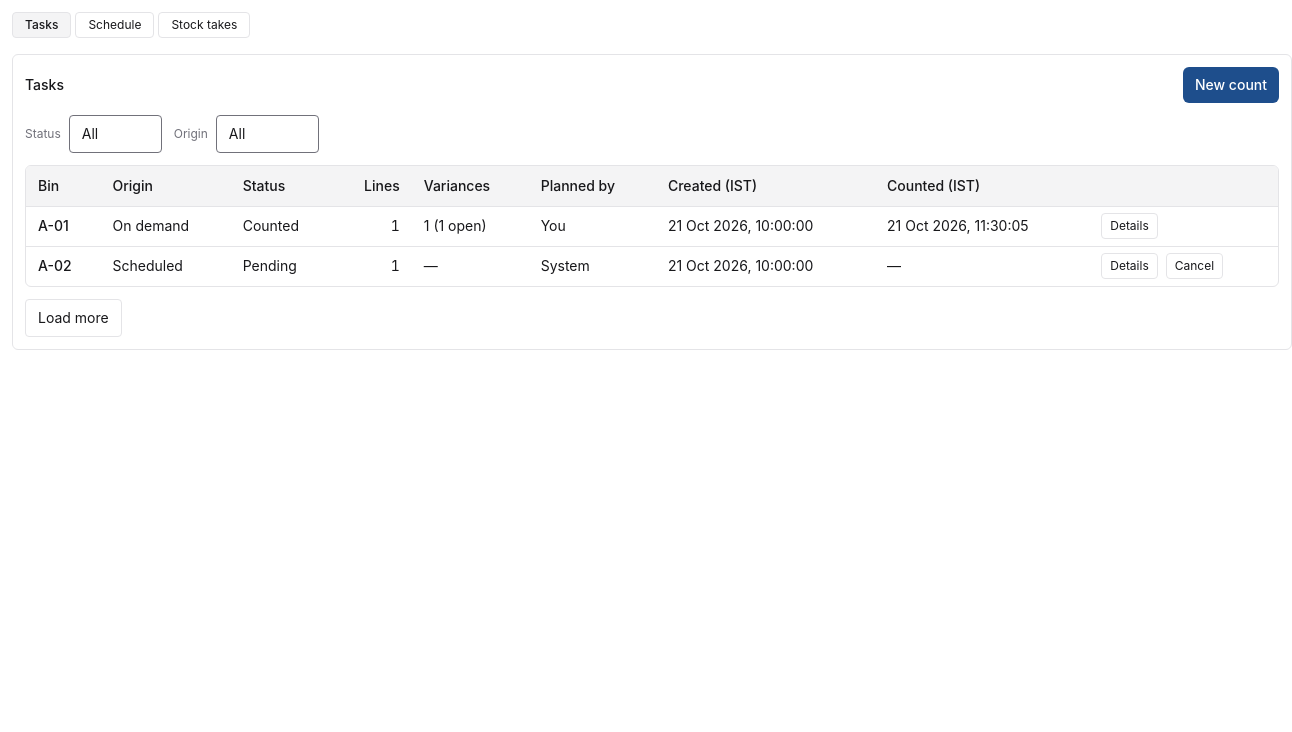
Test: the Tasks tab › expanding a row reads the detail: expected beside counted, the variance, the queue link for a resolver
Step 1. Click the button "Details" in the row of "A-01" → point(1129, 226), box [1101,213,1158,239]
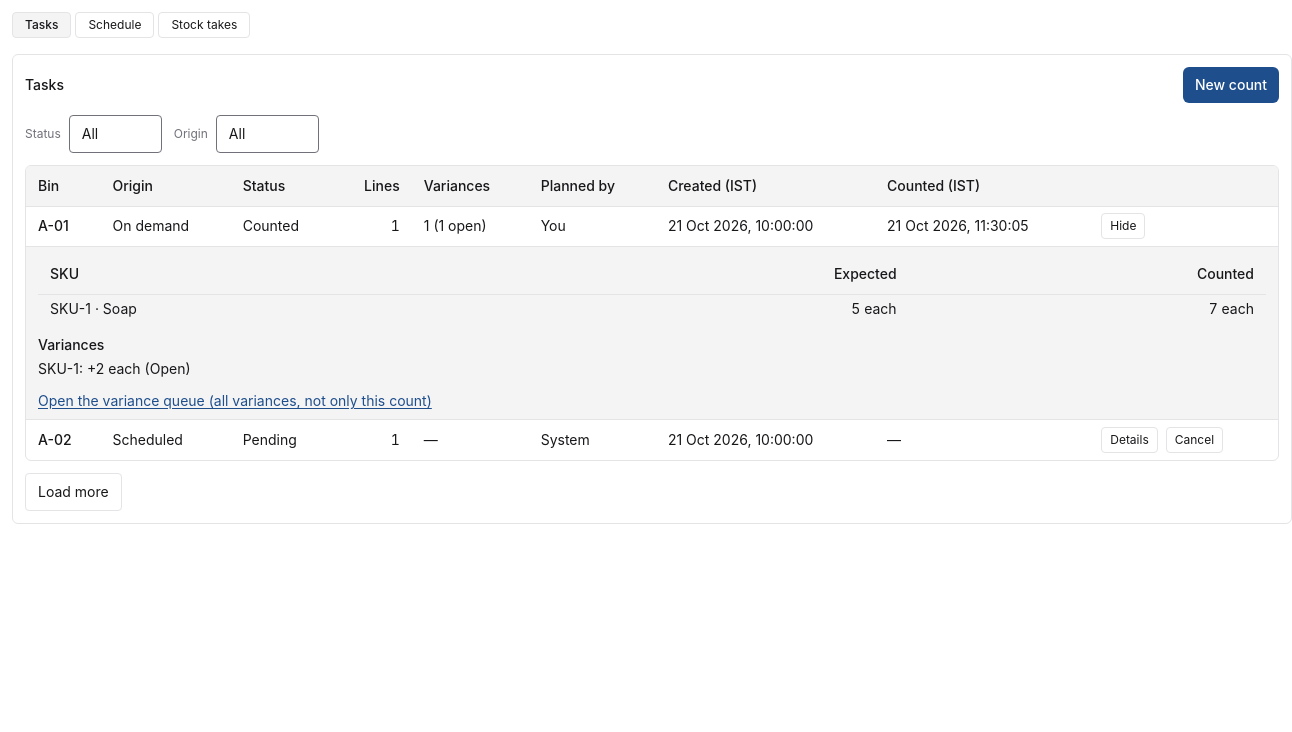
Check: the link "Open the variance queue (all variances, not only this count)" is shown, box [38,391,432,411]
